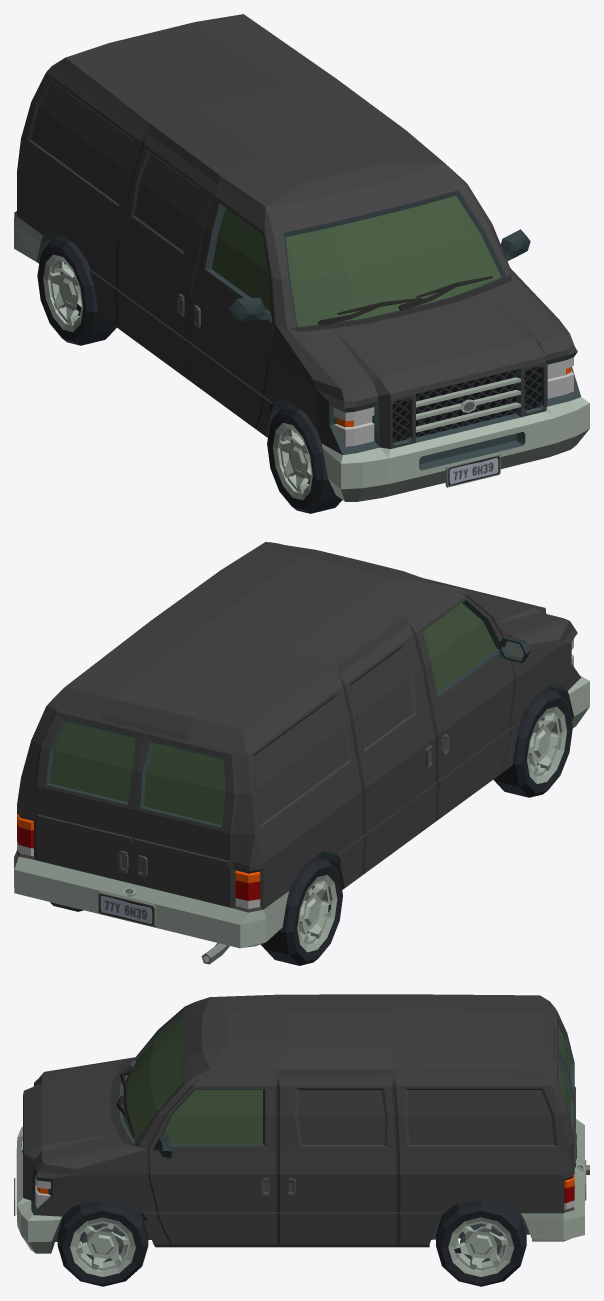
The model's file is Car 2.fbx.
The picture shows the model from 3 angles, top to bottom: view 1: azimuth 30°, elevation 25°; view 2: azimuth 150°, elevation 25°; view 3: azimuth 270°, elevation 25°; orthographic projection. The views are drawn at different scales.
Parts seen in each view (by area): view 1: SM_Veh_Car_Van_01, SM_Veh_Car_Van_Glass, SM_Veh_Car_Van_Wheel_rr, SM_Veh_Car_Van_Wheel_fr, SM_Veh_Car_Van_Plates; view 2: SM_Veh_Car_Van_01, SM_Veh_Car_Van_Door_r, SM_Veh_Car_Van_Door_l, SM_Veh_Car_Van_Wheel_rr, SM_Veh_Car_Van_Wheel_fr, SM_Veh_Car_Van_Door_r_Glass, SM_Veh_Car_Van_Door_l_Glass, SM_Veh_Car_Van_Glass, SM_Veh_Car_Van_Plates; view 3: SM_Veh_Car_Van_01, SM_Veh_Car_Van_Glass, SM_Veh_Car_Van_Wheel_rl, SM_Veh_Car_Van_Wheel_fl, SM_Veh_Car_Van_Door_l, SM_Veh_Car_Van_Door_r.
Boxes of the visible parts, x1,y1,x2,y2 form: SM_Veh_Car_Van_01: (14,14,589,501); SM_Veh_Car_Van_Glass: (212,195,501,326); SM_Veh_Car_Van_Wheel_rr: (37,236,116,345); SM_Veh_Car_Van_Wheel_fr: (267,404,342,513); SM_Veh_Car_Van_Plates: (445,453,500,487); SM_Veh_Car_Van_01: (14,542,589,964); SM_Veh_Car_Van_Door_r: (133,733,234,905); SM_Veh_Car_Van_Door_l: (36,712,143,882); SM_Veh_Car_Van_Wheel_rr: (260,856,342,965); SM_Veh_Car_Van_Wheel_fr: (493,688,572,797); SM_Veh_Car_Van_Door_r_Glass: (144,743,225,825); SM_Veh_Car_Van_Door_l_Glass: (49,721,135,802); SM_Veh_Car_Van_Glass: (423,603,496,692); SM_Veh_Car_Van_Plates: (98,891,156,927); SM_Veh_Car_Van_01: (16,994,589,1253); SM_Veh_Car_Van_Glass: (122,1016,262,1144); SM_Veh_Car_Van_Wheel_rl: (436,1201,526,1286); SM_Veh_Car_Van_Wheel_fl: (57,1201,148,1286); SM_Veh_Car_Van_Door_l: (557,1046,576,1167); SM_Veh_Car_Van_Door_r: (557,1011,576,1140).
Size of the model in its own units: 488 by 400 by 995.
